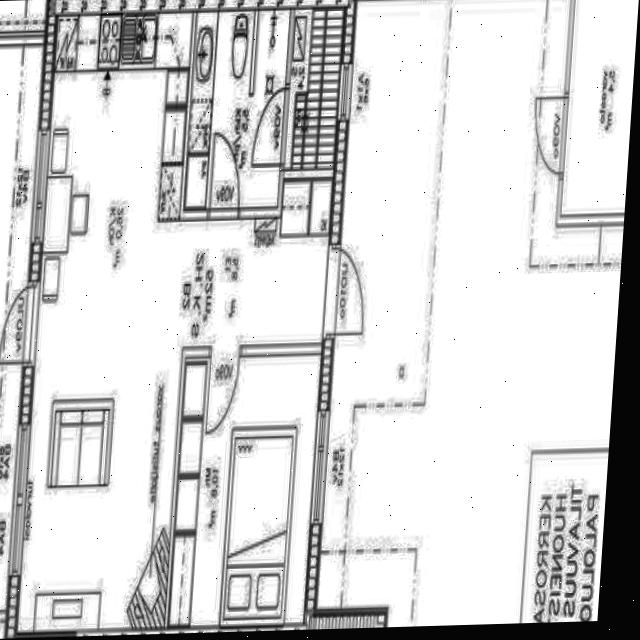room: (169, 344, 321, 634), (184, 2, 290, 215), (284, 3, 344, 173)
